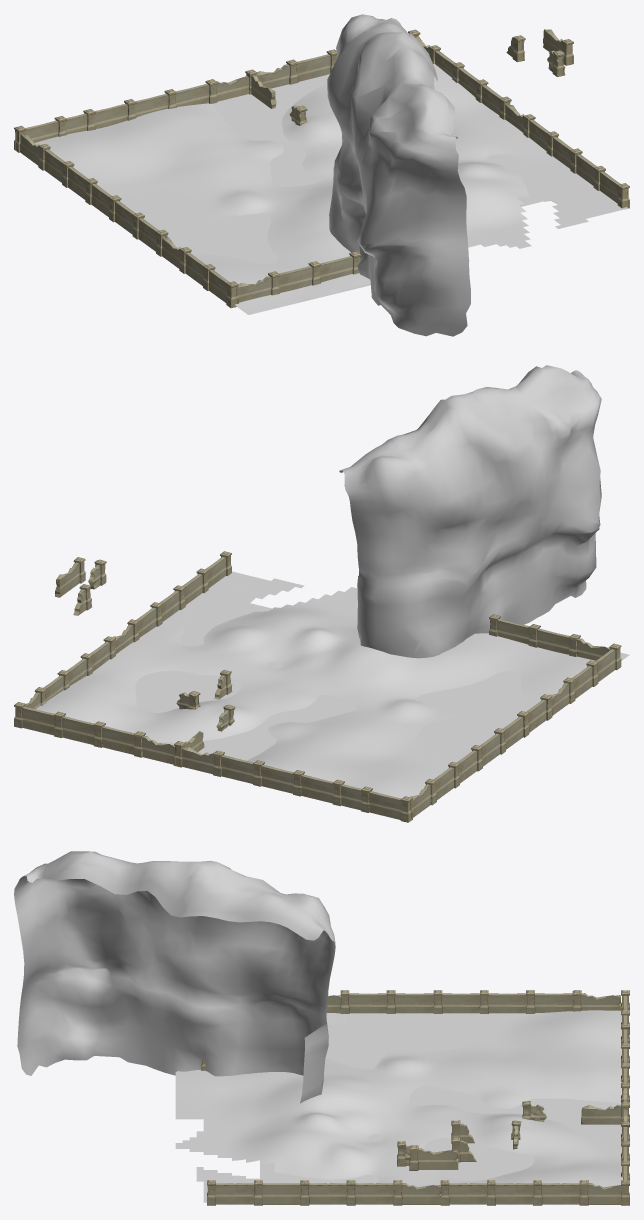
File: Outside_fence.fbx
3 renders of one model, top to bottom at view 1: azimuth 30°, elevation 25°; view 2: azimuth 150°, elevation 25°; view 3: azimuth 270°, elevation 25°, orthographic.
Parts seen in each view (by area): view 1: sand, Plane.016, Plane, fence.032, fence.011, fence.014, fence.027, fence.031, fence.012, fence.015, fence.010, fence.028 (+21 smaller); view 2: Plane.016, sand, Plane, fence.018, fence.011, fence.012, fence.013, fence.015, fence.008, fence.009, fence.010, fence.014 (+5 smaller); view 3: Plane.016, sand, Plane, fence.002, fence.036, fence, fence.001, fence.003, fence.006, fence.004, fence.026, fence.007 (+8 smaller).
Boxes of the visible parts, x1=… form: sand: x1=35, y1=64, x2=628, y2=314; Plane.016: x1=327, y1=14, x2=470, y2=336; Plane: x1=110, y1=77, x2=627, y2=311; fence.032: x1=278, y1=261, x2=320, y2=292; fence.011: x1=296, y1=49, x2=337, y2=81; fence.014: x1=205, y1=76, x2=249, y2=103; fence.027: x1=319, y1=251, x2=361, y2=282; fence.031: x1=237, y1=271, x2=279, y2=302; fence.012: x1=83, y1=103, x2=127, y2=130; fence.015: x1=164, y1=84, x2=209, y2=108; fence.010: x1=256, y1=59, x2=298, y2=88; fence.028: x1=209, y1=269, x2=238, y2=308; Plane.016: x1=339, y1=365, x2=601, y2=658; sand: x1=36, y1=571, x2=629, y2=798; Plane: x1=135, y1=571, x2=624, y2=762; fence.018: x1=369, y1=791, x2=412, y2=822; fence.011: x1=93, y1=721, x2=135, y2=754; fence.012: x1=301, y1=774, x2=344, y2=806; fence.013: x1=261, y1=765, x2=304, y2=796; fence.015: x1=221, y1=755, x2=264, y2=786; fence.008: x1=14, y1=702, x2=55, y2=735; fence.009: x1=54, y1=711, x2=94, y2=744; fence.010: x1=134, y1=731, x2=175, y2=764; fence.014: x1=182, y1=746, x2=224, y2=776; Plane.016: x1=14, y1=851, x2=335, y2=1103; sand: x1=175, y1=1010, x2=622, y2=1202; Plane: x1=175, y1=1013, x2=621, y2=1201; fence.002: x1=346, y1=1180, x2=394, y2=1205; fence.036: x1=207, y1=1180, x2=254, y2=1205; fence: x1=254, y1=1180, x2=301, y2=1205; fence.001: x1=300, y1=1180, x2=347, y2=1205; fence.003: x1=440, y1=1180, x2=487, y2=1205; fence.006: x1=533, y1=1180, x2=580, y2=1205; fence.004: x1=487, y1=1180, x2=534, y2=1205; fence.026: x1=386, y1=990, x2=434, y2=1013; fence.007: x1=409, y1=1145, x2=458, y2=1170.
Size of the model in its own units: 11363 by 5726 by 13690.
